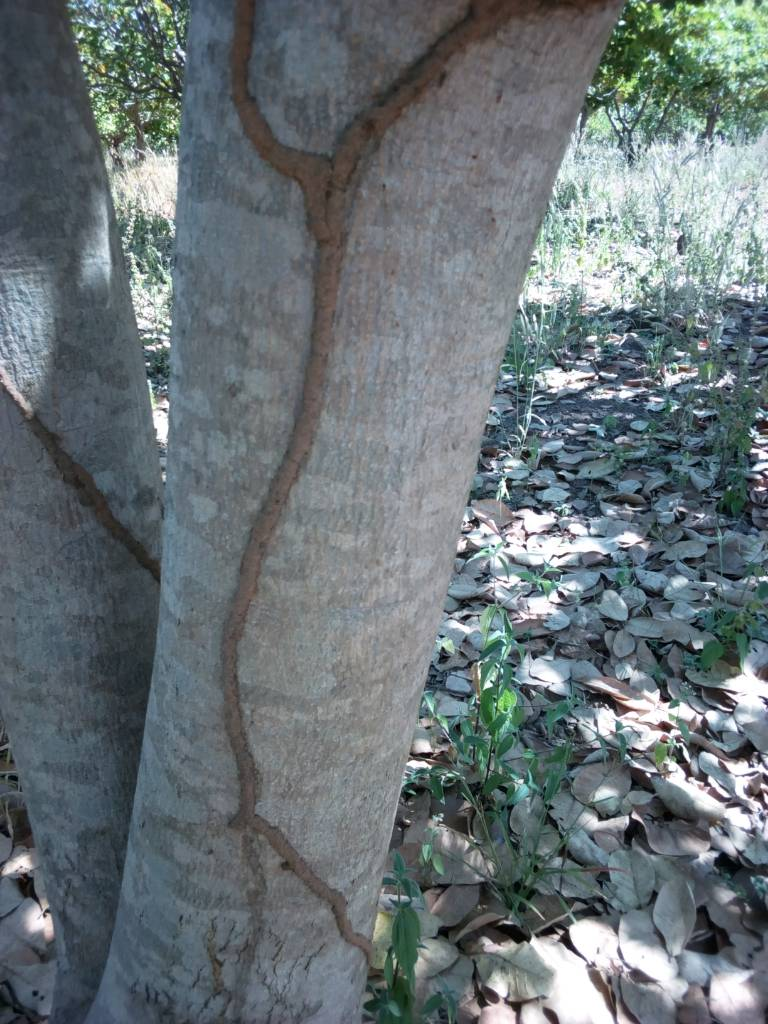Termites: (227, 42, 365, 964)
